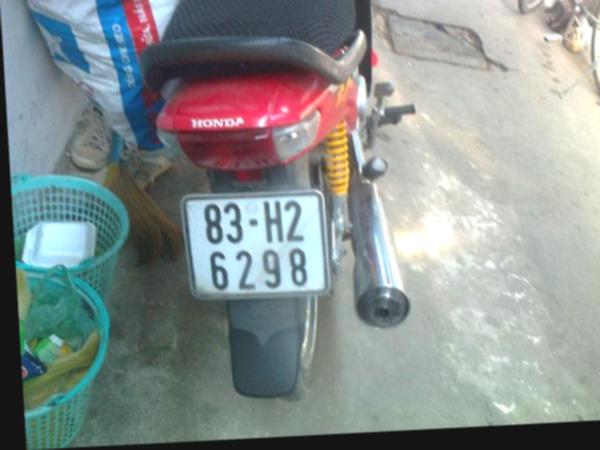License_Plate: (189, 190, 324, 297)
